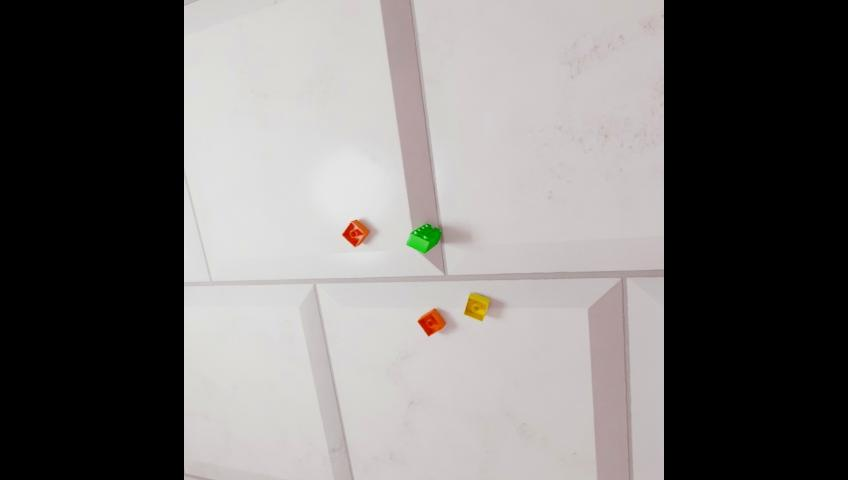2x2_orange: (417, 308, 447, 337), (342, 218, 371, 246)
2x2_yellow: (464, 292, 492, 320)
4x2_green: (407, 223, 443, 252)
